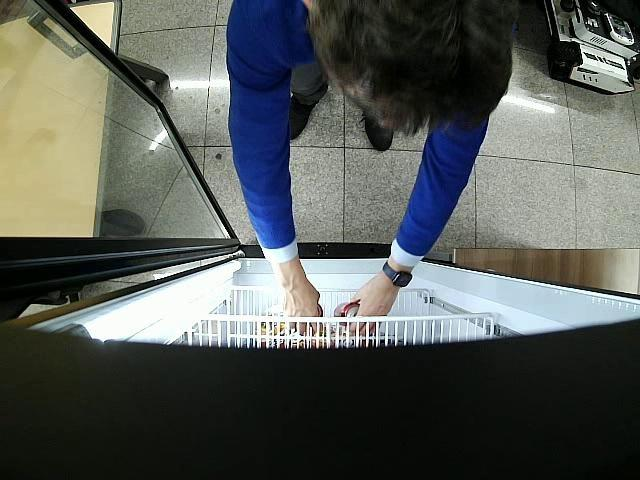11_cocaColaZero: (334, 303, 360, 326)
